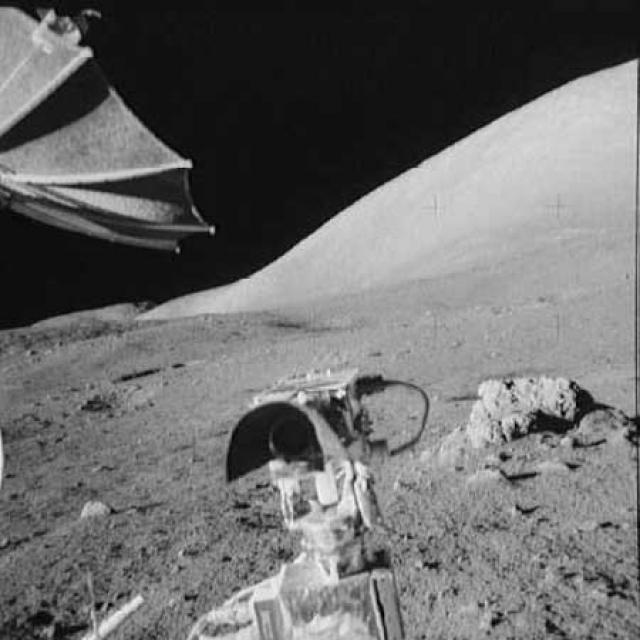artifact: (192, 351, 451, 639), (0, 0, 227, 270)
crater: (0, 385, 150, 434)
rock: (460, 353, 582, 431), (567, 405, 634, 444)
